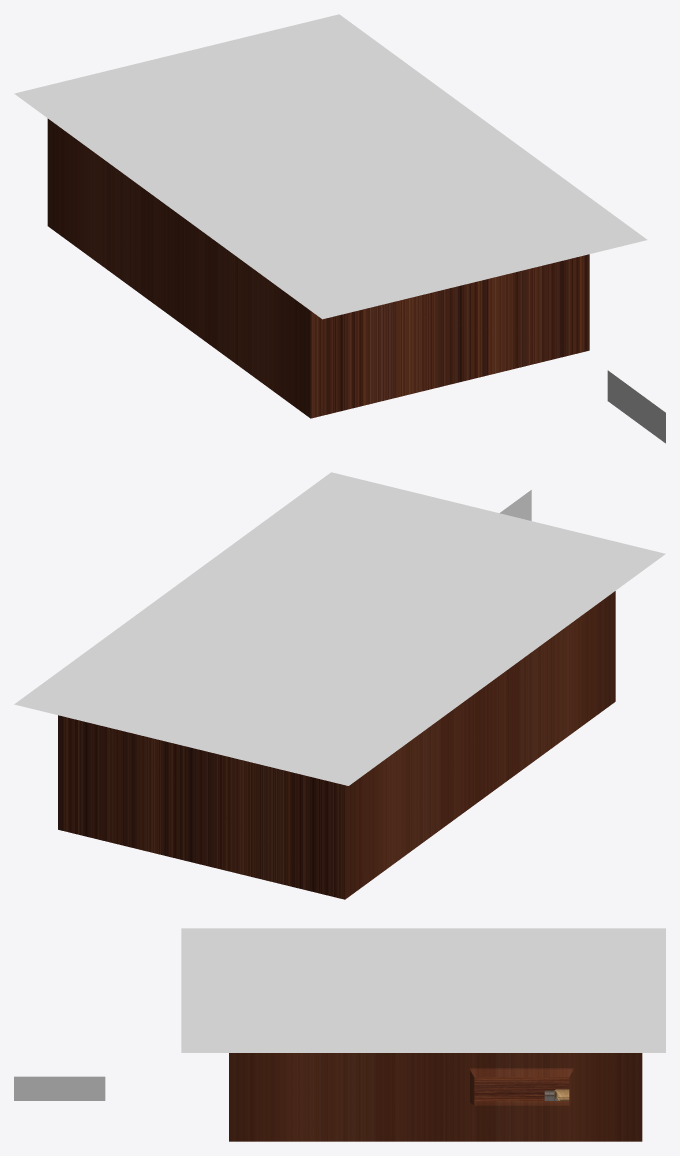
Rendered from PhongBep.glb.
The picture shows the model from 3 angles, top to bottom: view 1: azimuth 30°, elevation 25°; view 2: azimuth 150°, elevation 25°; view 3: azimuth 270°, elevation 25°; orthographic projection. The views are drawn at different scales.
Visible parts, largest first — view 1: Plane.001, tuong.001, kinhcuaso; view 2: Plane.001, tuong.001; view 3: Plane.001, tuong.001, kinhcuaso.
Boxes of the visible parts, <box> form: Plane.001: <box>14,14,647,319</box>; tuong.001: <box>47,118,589,418</box>; kinhcuaso: <box>607,370,665,443</box>; Plane.001: <box>14,472,665,785</box>; tuong.001: <box>58,591,615,899</box>; Plane.001: <box>181,928,665,1052</box>; tuong.001: <box>229,1053,642,1141</box>; kinhcuaso: <box>14,1076,105,1100</box>.
Size of the model in its own units: 171 by 63.3 by 378.
Materials: 11 (9 with a texture image).
